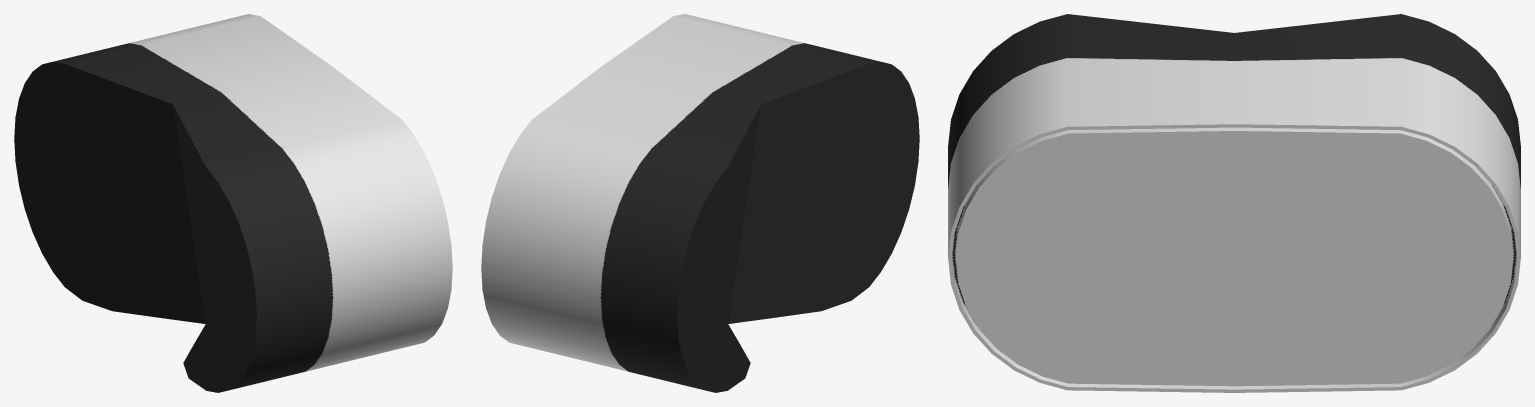
File: bouken2.fbx
3 renders of one model, left to right at view 1: azimuth 30°, elevation 25°; view 2: azimuth 150°, elevation 25°; view 3: azimuth 270°, elevation 25°, orthographic. The views are drawn at different scales.
Visible parts, largest first — view 1: hmc_base; view 2: hmc_base; view 3: hmc_base.
Boxes of the visible parts, x1,y1,x2,y2 form: hmc_base: (14,14,452,392); hmc_base: (481,14,919,392); hmc_base: (948,14,1520,392).
Size of the model in its own units: 0.153 by 0.0713 by 0.0792.
